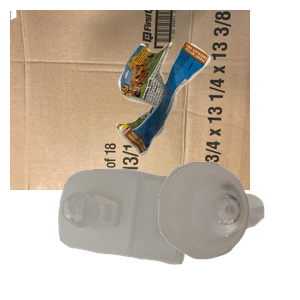cardboard: (10, 10, 250, 190)
glass: (156, 159, 300, 300)
plastic: (56, 166, 241, 300)
trash: (114, 39, 300, 188)
